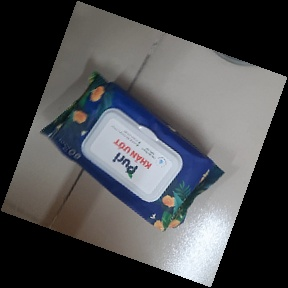Puri Xanh: (39, 70, 225, 234)
